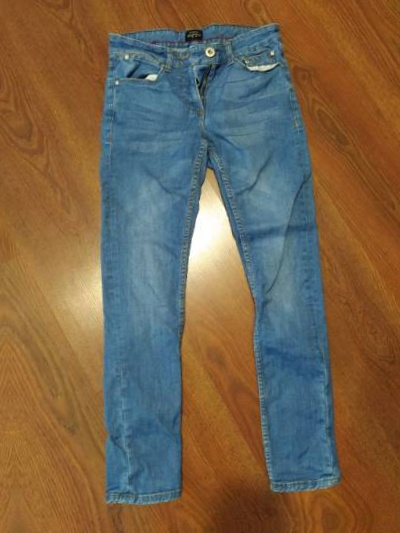Pants: (49, 4, 374, 516)
